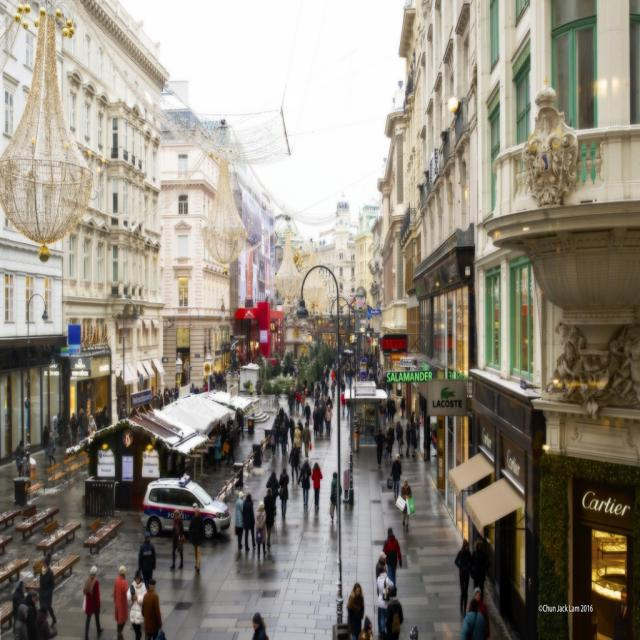body: (189, 349, 249, 403), (82, 565, 105, 639), (454, 536, 474, 620), (382, 525, 402, 603), (125, 569, 147, 639), (38, 555, 58, 629), (111, 565, 131, 639), (469, 536, 490, 602), (141, 577, 163, 639), (376, 565, 394, 638), (459, 597, 488, 639), (188, 506, 206, 572), (168, 508, 186, 572), (138, 530, 156, 592), (359, 350, 386, 391), (346, 581, 365, 639), (384, 585, 404, 639), (376, 551, 388, 636), (33, 600, 58, 640), (262, 486, 278, 548), (253, 499, 268, 562), (242, 492, 257, 554), (152, 384, 182, 414), (296, 455, 312, 511), (10, 579, 26, 634), (467, 586, 489, 624), (399, 476, 413, 534), (232, 490, 245, 552), (329, 471, 343, 525), (277, 466, 290, 523), (338, 350, 356, 389), (266, 471, 280, 518), (96, 402, 111, 444), (310, 461, 322, 512), (26, 588, 38, 638), (250, 611, 271, 639), (390, 452, 402, 501), (288, 442, 302, 484), (210, 432, 223, 475), (374, 428, 386, 470), (14, 440, 26, 479), (277, 418, 287, 459), (357, 615, 374, 639), (46, 430, 56, 469), (225, 428, 235, 466), (292, 421, 302, 459), (302, 421, 312, 459), (396, 419, 405, 458), (316, 404, 326, 438), (69, 410, 78, 446), (55, 416, 65, 448), (324, 402, 333, 437), (387, 420, 395, 459), (382, 428, 390, 466), (404, 421, 412, 459), (310, 402, 318, 440), (268, 423, 276, 459), (282, 410, 290, 446), (412, 418, 419, 458), (42, 425, 50, 460), (296, 418, 304, 453), (78, 408, 86, 442), (288, 416, 296, 450), (389, 395, 398, 424), (302, 401, 312, 427), (293, 390, 302, 416), (274, 414, 280, 452), (118, 401, 130, 420), (82, 408, 89, 440), (87, 413, 97, 435), (286, 391, 294, 416), (239, 412, 246, 440), (312, 385, 320, 408), (399, 394, 406, 420), (318, 393, 325, 419), (312, 400, 320, 422), (386, 394, 392, 423), (312, 381, 320, 402), (300, 390, 306, 416), (289, 386, 295, 412), (322, 380, 329, 402), (406, 408, 416, 423), (330, 378, 336, 401), (346, 398, 352, 421), (236, 414, 242, 436), (330, 367, 336, 389), (308, 378, 314, 400), (341, 390, 346, 416), (320, 374, 326, 395), (340, 378, 347, 396), (322, 395, 327, 415), (280, 406, 285, 425), (326, 398, 333, 411), (325, 362, 330, 380), (324, 366, 329, 384), (278, 407, 283, 424)
